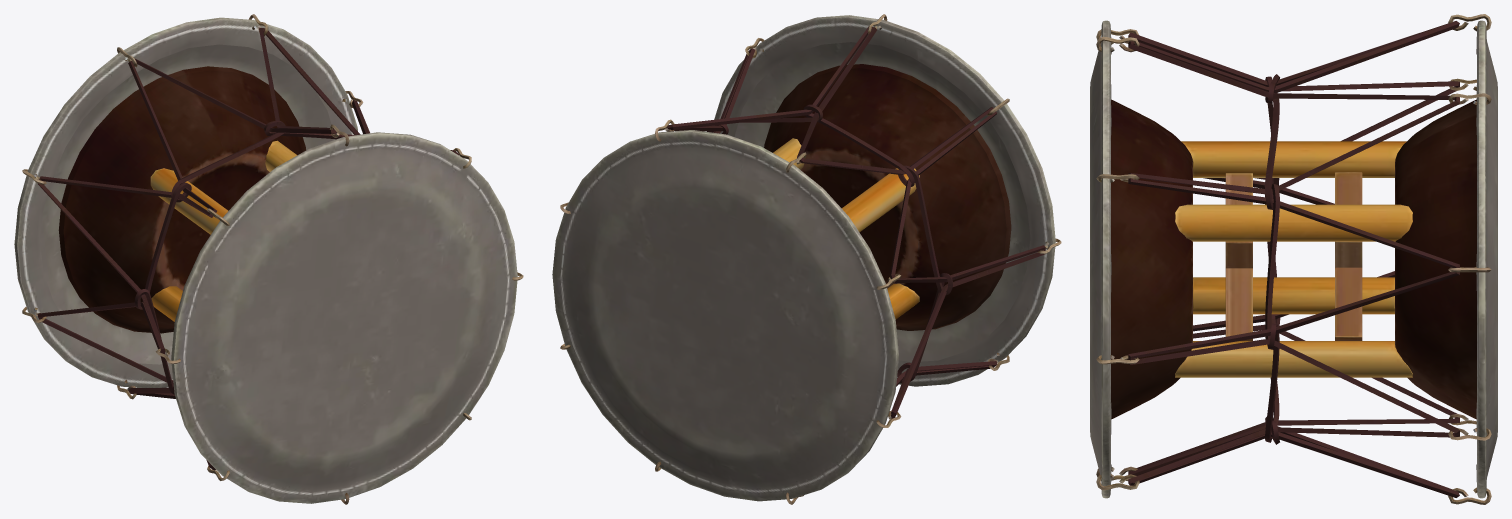
The model's file is sajanggu.glb.
3 views of the same model, side by side, from view 1: azimuth 30°, elevation 25°; view 2: azimuth 150°, elevation 25°; view 3: azimuth 270°, elevation 25° (orthographic). The views are drawn at different scales.
Parts seen in each view (by area): view 1: Sajang-Bowl_LoRes.001_SajangLoRes_0; view 2: Sajang-Bowl_LoRes.001_SajangLoRes_0; view 3: Sajang-Bowl_LoRes.001_SajangLoRes_0.
Part boxes in pixels (left/top/right/bottom): Sajang-Bowl_LoRes.001_SajangLoRes_0: left=14, top=14, right=523, bottom=504; Sajang-Bowl_LoRes.001_SajangLoRes_0: left=552, top=14, right=1061, bottom=504; Sajang-Bowl_LoRes.001_SajangLoRes_0: left=1090, top=14, right=1497, bottom=504.
Size of the model in its own units: 0.7196 by 0.7196 by 0.597.
Materials: 1 (1 with a texture image).
